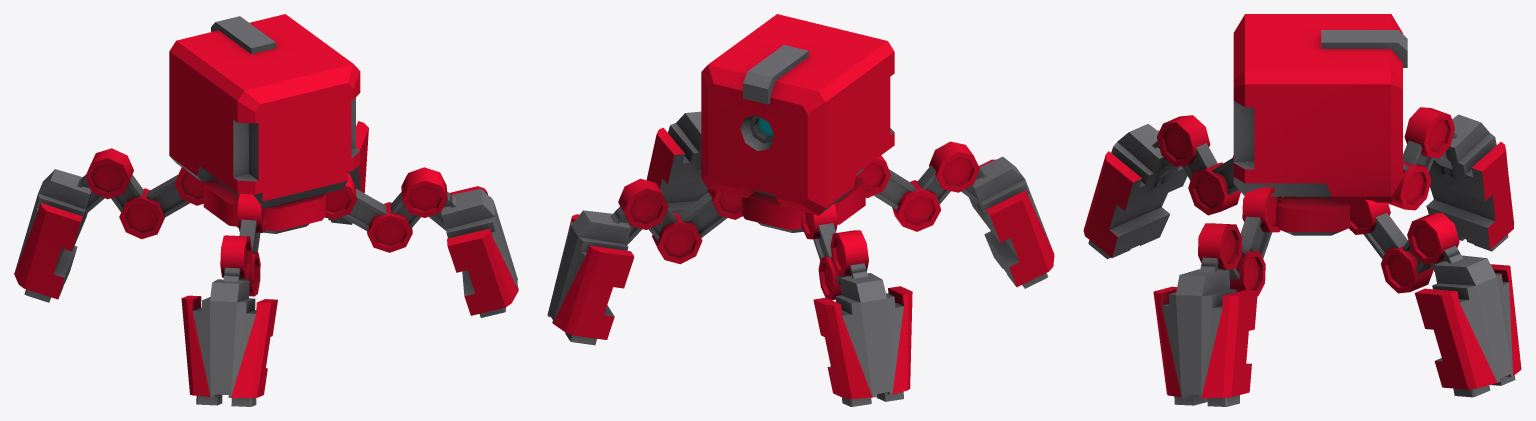
File: Monster1_Move31.obj
The picture shows the model from 3 angles, left to right: view 1: azimuth 30°, elevation 25°; view 2: azimuth 150°, elevation 25°; view 3: azimuth 270°, elevation 25°; orthographic projection. The views are drawn at different scales.
Parts seen in each view (by area): view 1: Box006, Object021, Object017, Object025, Object020, Object028, Object027, Object019, Object018, Object026, Object024, Object022 (+2 smaller); view 2: Box006, Object025, Object013, Object021, Object017, Object016, Object023, Object024, Object015, Object014, Object022, Object028 (+2 smaller); view 3: Box006, Object017, Object013, Object021, Object025, Object023, Object016, Object024, Object014, Object028, Object018, Object020 (+4 smaller).
Part boxes in pixels (x1,y1,x2,y2): Box006: (169,14,360,233); Object021: (181,279,277,406); Object017: (441,186,518,317); Object025: (14,169,91,302); Object020: (401,167,456,230); Object028: (77,148,133,214); Object027: (111,174,164,239); Object019: (367,192,420,252); Object018: (325,173,386,231); Object026: (146,167,215,217); Object024: (220,235,251,281); Object022: (237,193,266,253); Box006: (701,14,894,232); Object025: (813,273,912,406); Object013: (547,210,634,345); Object021: (969,156,1054,288); Object017: (646,111,707,214); Object016: (610,178,668,244); Object023: (892,165,950,231); Object024: (929,141,987,205); Object015: (648,208,702,264); Object014: (678,189,742,237); Object022: (855,155,916,209); Object028: (830,230,868,278); Box006: (1233,14,1407,235); Object017: (1153,269,1257,406); Object013: (1414,255,1521,397); Object021: (1083,124,1187,259); Object025: (1426,114,1513,251); Object023: (1182,143,1240,215); Object016: (1407,212,1463,271); Object024: (1152,115,1210,178); Object014: (1346,199,1407,258); Object028: (1404,107,1457,169); Object018: (1240,187,1283,258); Object020: (1198,223,1242,272).
Size of the model in its own units: 163 by 109 by 153.
